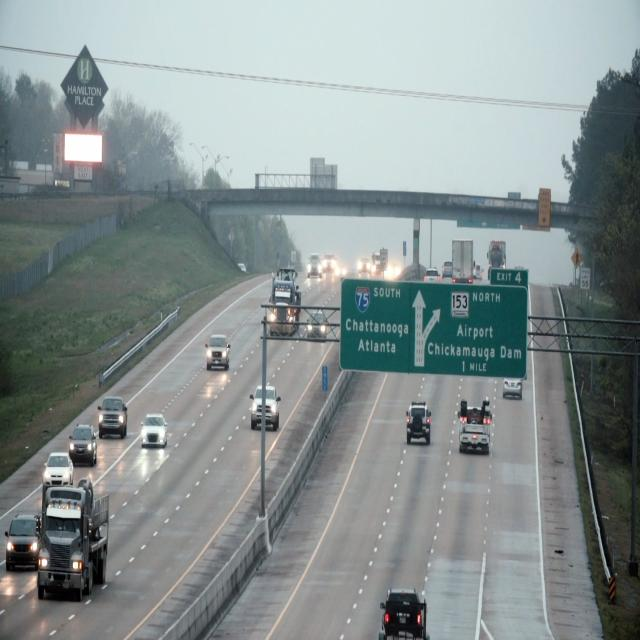Car: (42, 484, 111, 595), (381, 588, 429, 640), (267, 266, 299, 340), (455, 398, 494, 455), (7, 513, 43, 573), (69, 419, 99, 469), (44, 446, 75, 494), (98, 392, 129, 440), (252, 386, 280, 433), (140, 409, 168, 452), (204, 332, 232, 372), (407, 405, 432, 444), (306, 306, 327, 341)
